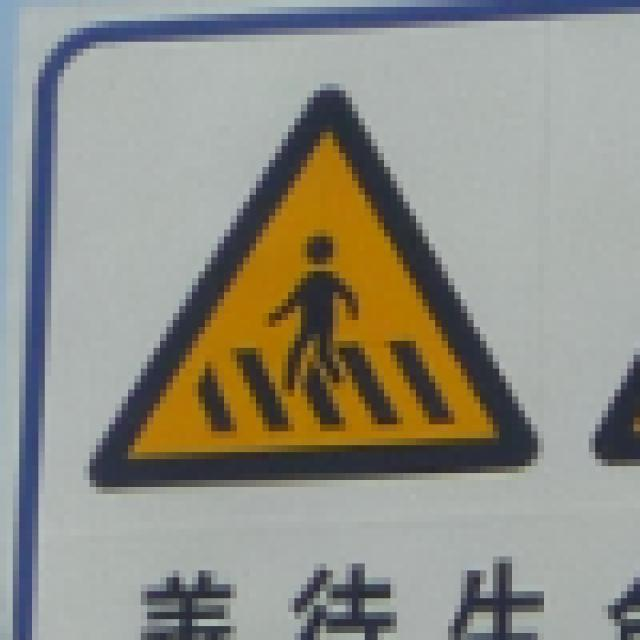Crossing: (67, 72, 568, 500)
